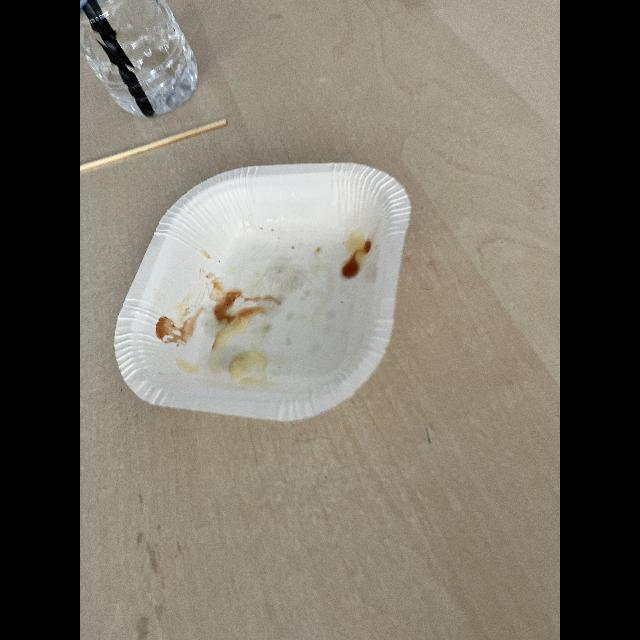cardboard_bowl: (106, 157, 420, 433)
stick: (80, 113, 234, 181)
